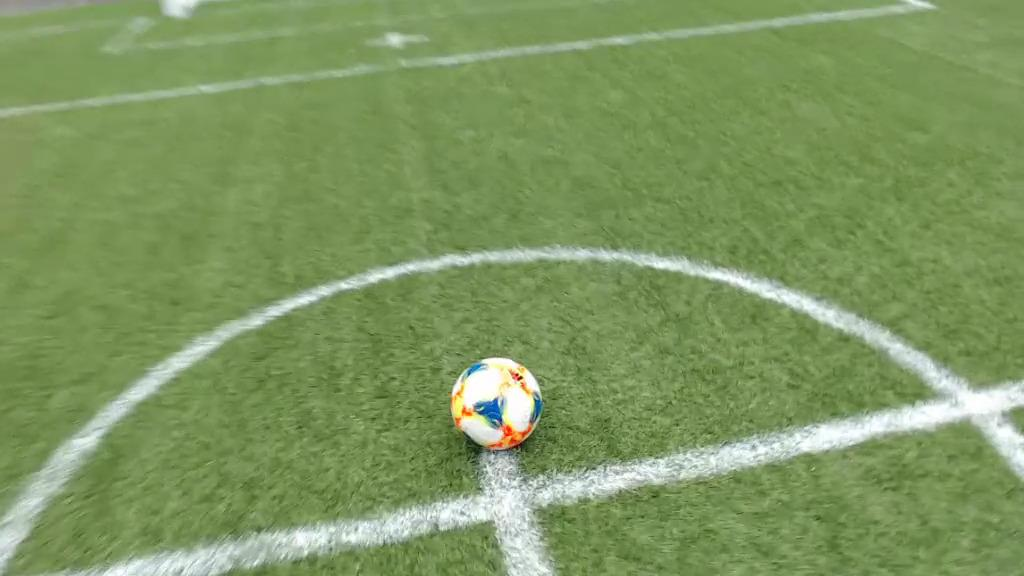ball: (449, 356, 542, 453)
